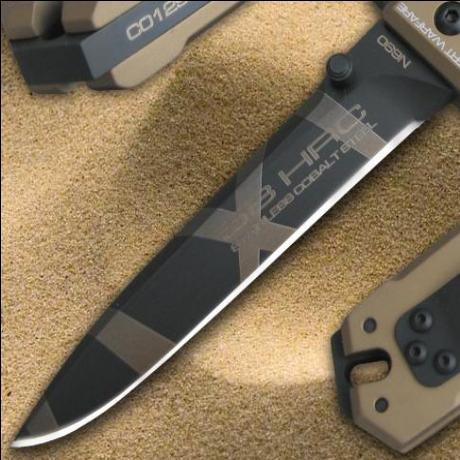weapon: (10, 4, 460, 445)
